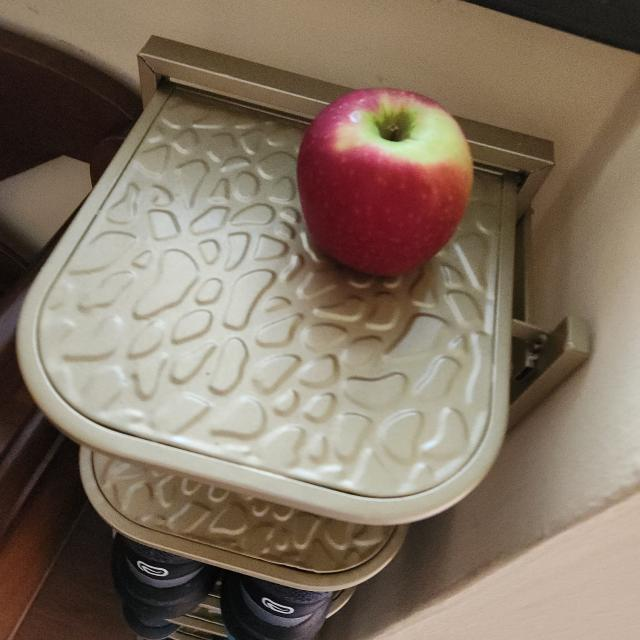apple: (296, 81, 482, 293)
